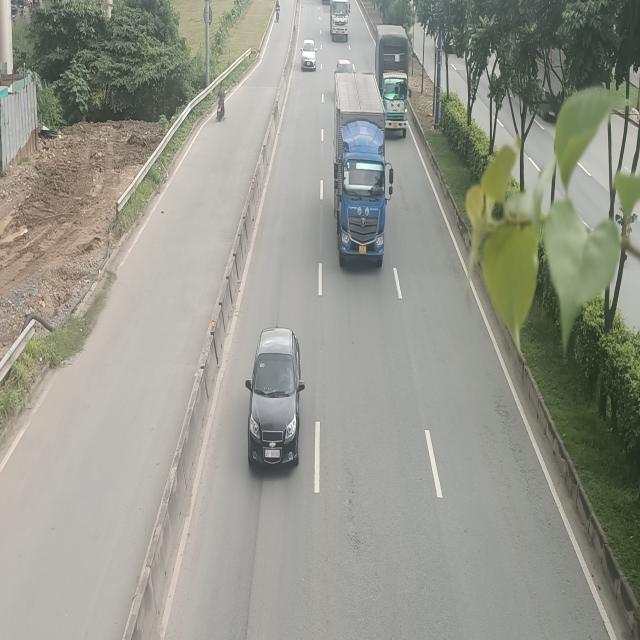car: (247, 326, 306, 466), (302, 38, 318, 70)
truck: (333, 66, 393, 265), (372, 24, 410, 138), (328, 0, 351, 40)
